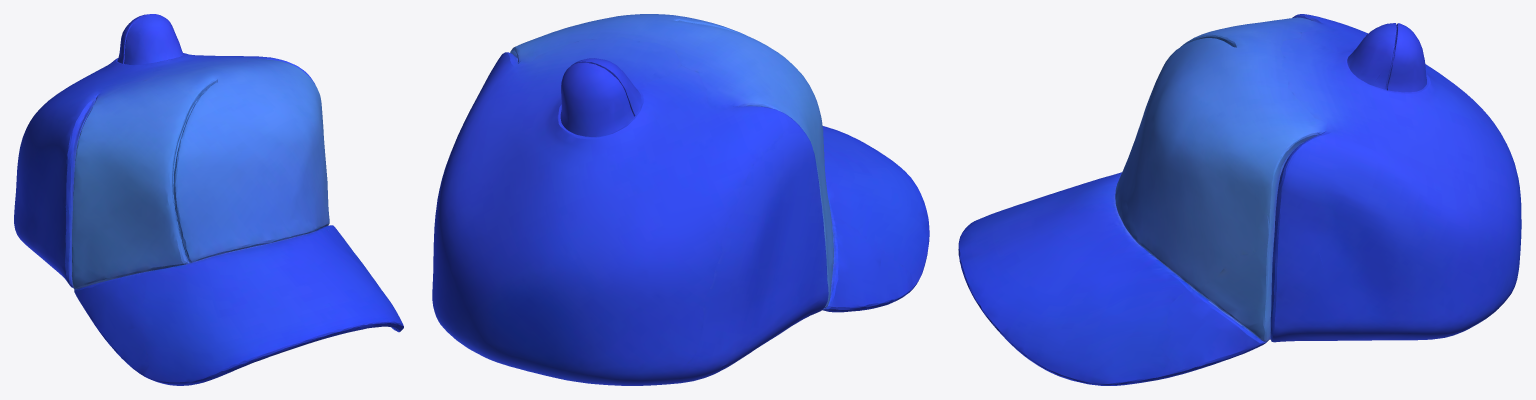
File: cap.glb
3 views of the same model, side by side, from view 1: azimuth 30°, elevation 25°; view 2: azimuth 150°, elevation 25°; view 3: azimuth 270°, elevation 25° (orthographic). The views are drawn at different scales.
Parts seen in each view (by area): view 1: model; view 2: model; view 3: model.
Part boxes in pixels (x1,y1,x2,y2): model: (14,14,403,385); model: (432,14,929,385); model: (958,14,1521,385).
Bounding box in the file's own units: 0.646 × 0.5698 × 1.
Materials: 1 (1 with a texture image).
